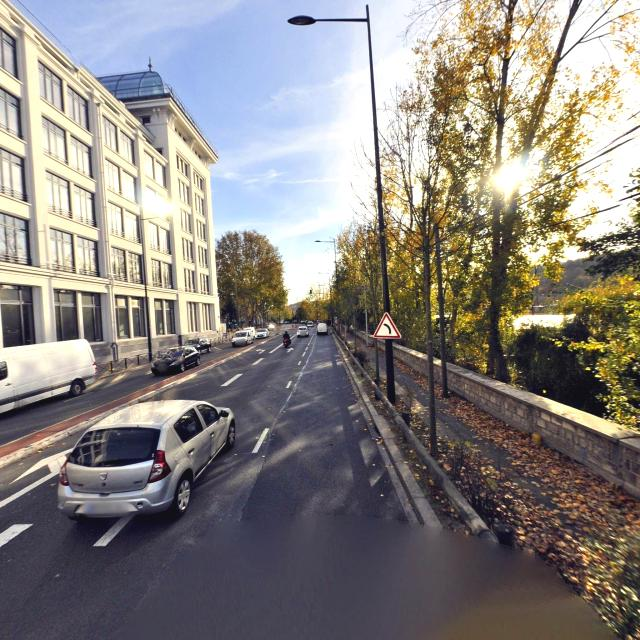bike: (282, 329, 292, 348)
car: (56, 399, 236, 526), (152, 344, 200, 376), (186, 336, 212, 354), (232, 330, 252, 347), (296, 324, 309, 338), (316, 322, 328, 336), (256, 328, 268, 338), (307, 320, 313, 327)
